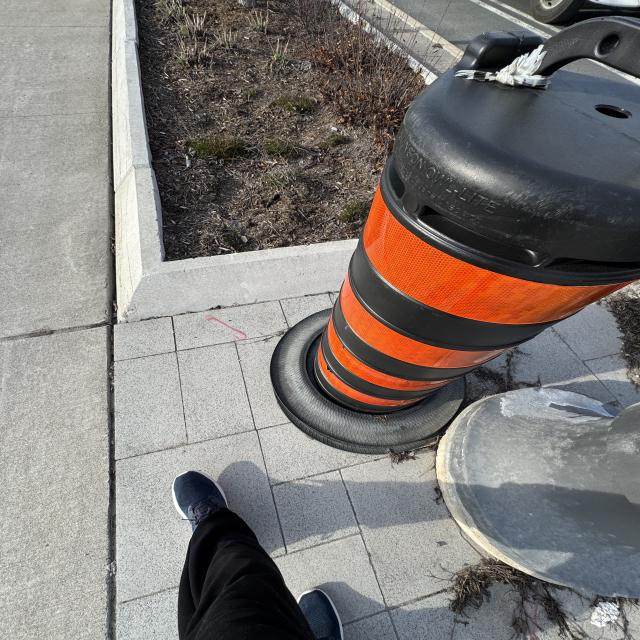Teraffic Barrel: (271, 18, 640, 452)
